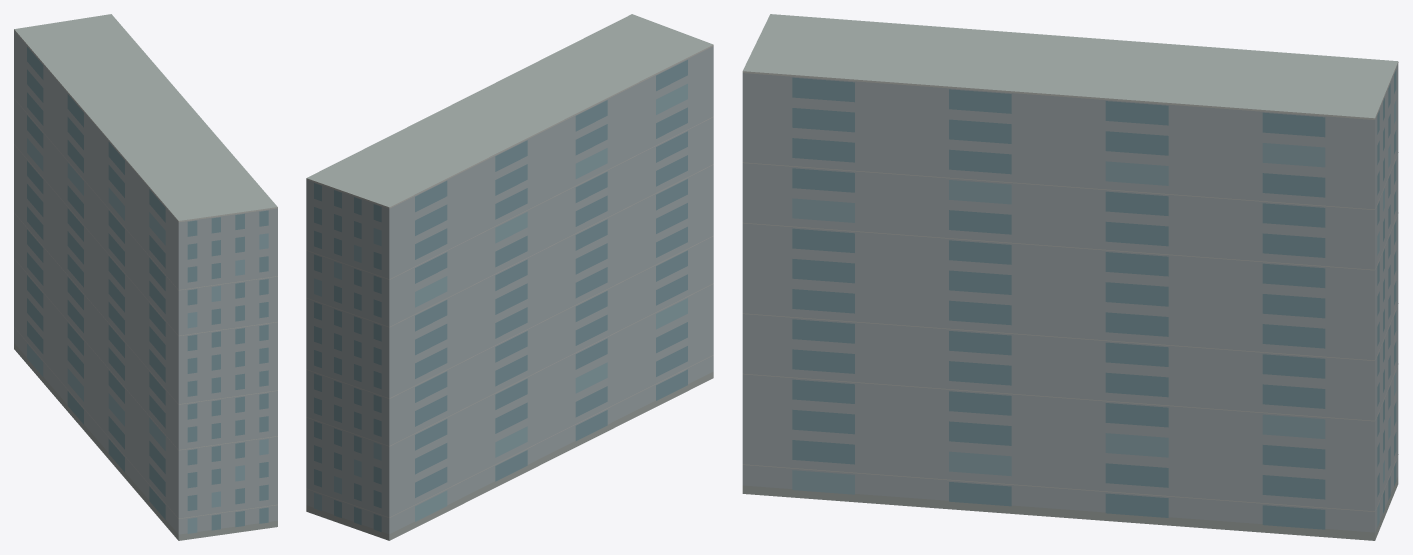
The model's file is residential-600bda03-ade9-491f-b1e5-bf8fb05050fa.glb.
The picture shows the model from 3 angles, left to right: view 1: azimuth 30°, elevation 25°; view 2: azimuth 150°, elevation 25°; view 3: azimuth 270°, elevation 25°; orthographic projection. The views are drawn at different scales.
Visible parts, largest first — view 1: residential-600bda03-ade9-491f-b1e5-bf8fb05050fa.tmp; view 2: residential-600bda03-ade9-491f-b1e5-bf8fb05050fa.tmp; view 3: residential-600bda03-ade9-491f-b1e5-bf8fb05050fa.tmp.
Part boxes in pixels (x1,y1,x2,y2): residential-600bda03-ade9-491f-b1e5-bf8fb05050fa.tmp: [14, 14, 277, 540]; residential-600bda03-ade9-491f-b1e5-bf8fb05050fa.tmp: [306, 14, 713, 540]; residential-600bda03-ade9-491f-b1e5-bf8fb05050fa.tmp: [742, 14, 1398, 540].
Size of the model in its own units: 30.72 by 58 by 81.59.
